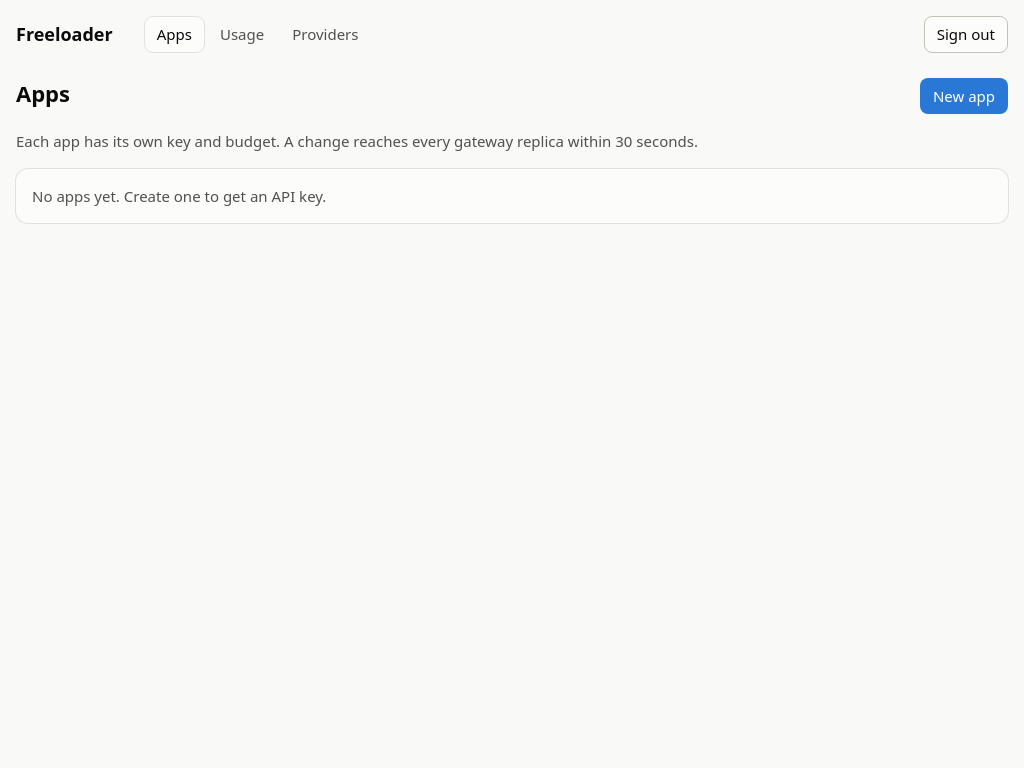
Apps page › requires a name
The image size is (1024, 768).
What coordinates should you click on to do the following:
click the button "New app"
I would click on:
 (964, 96)
Its box is [920,78,1008,114].
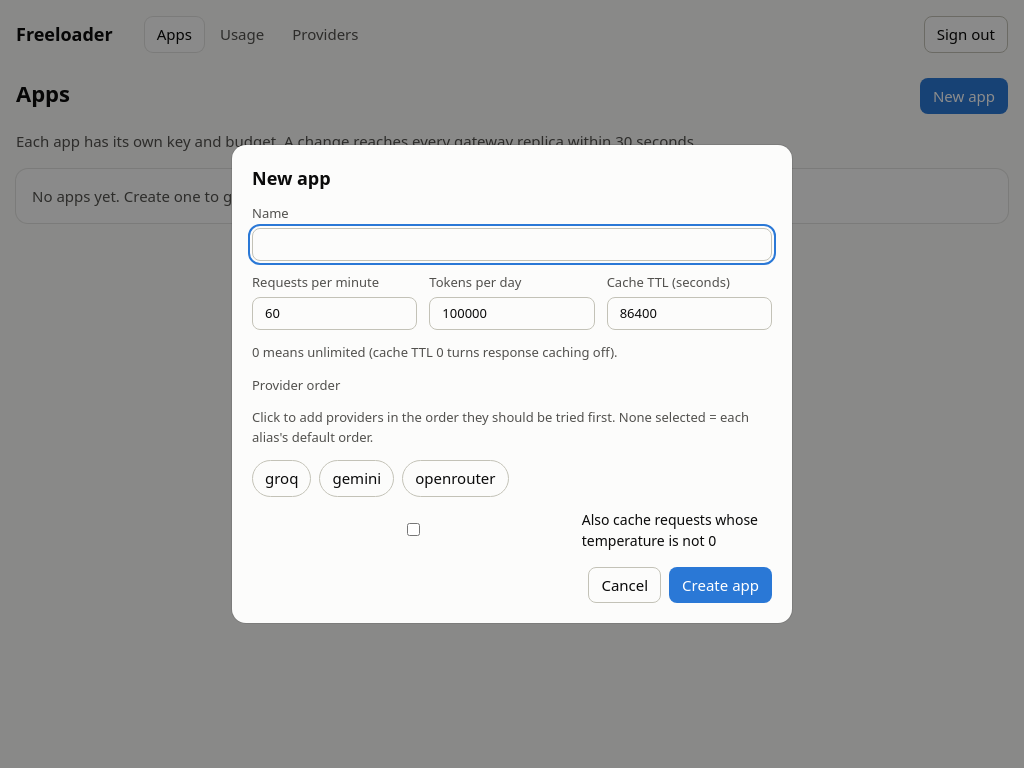
What coordinates should you click on to do the following:
click the button "Create app"
I would click on:
 (721, 585)
Its box is [669,566,772,603].
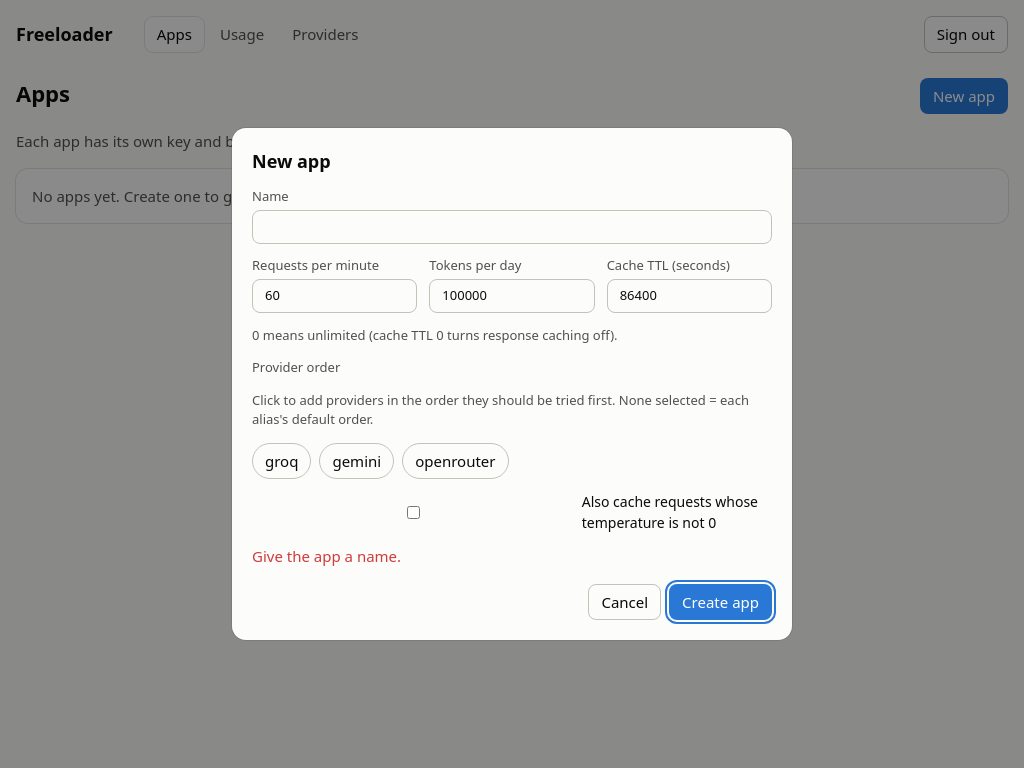
Result: the message shows "name" at [252,546,401,566]
